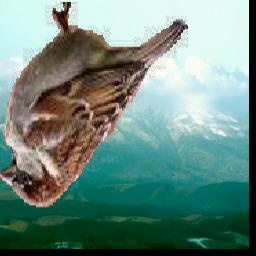Sparrow: (0, 3, 190, 208)
